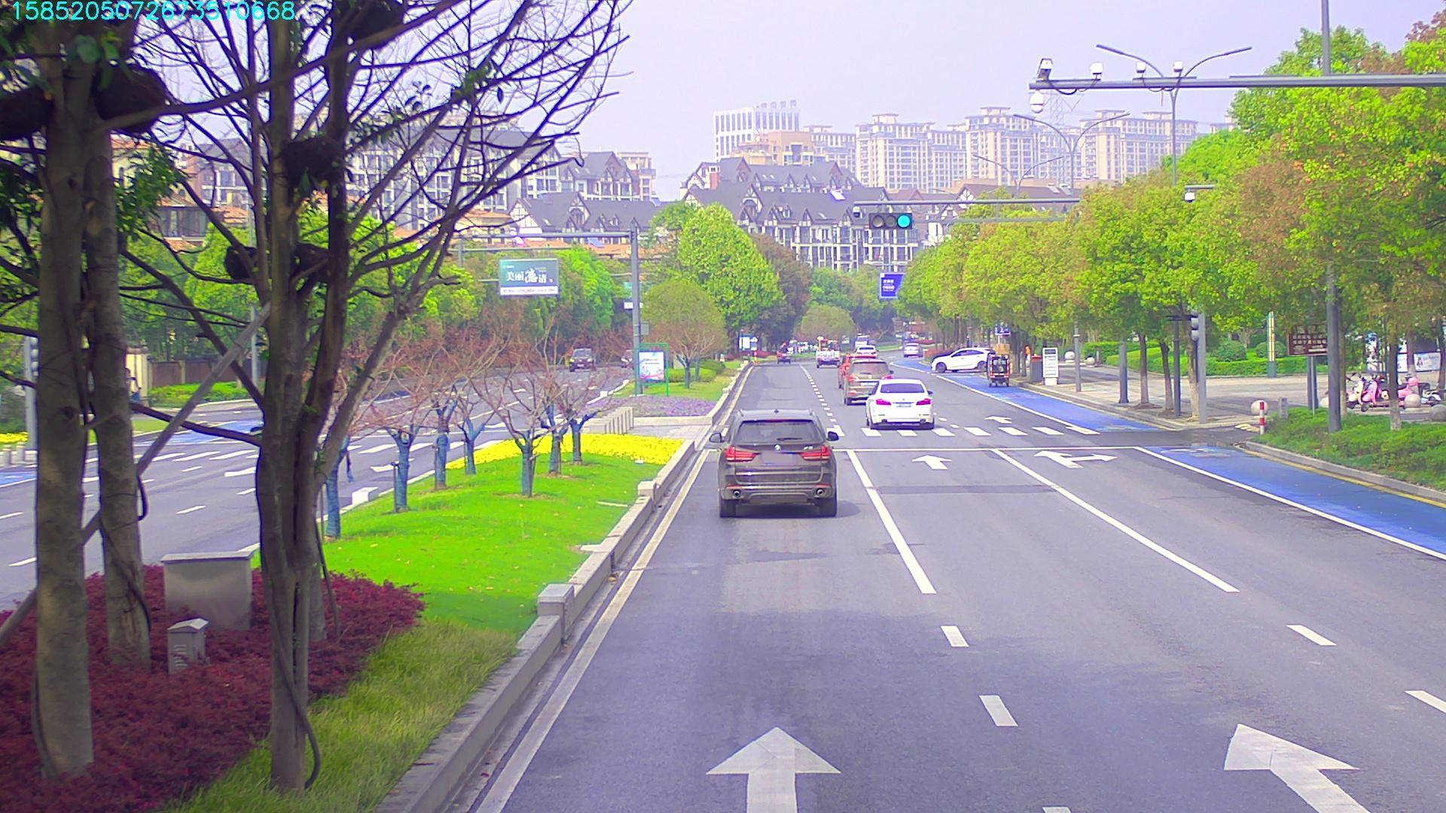green: (872, 209, 906, 229)
